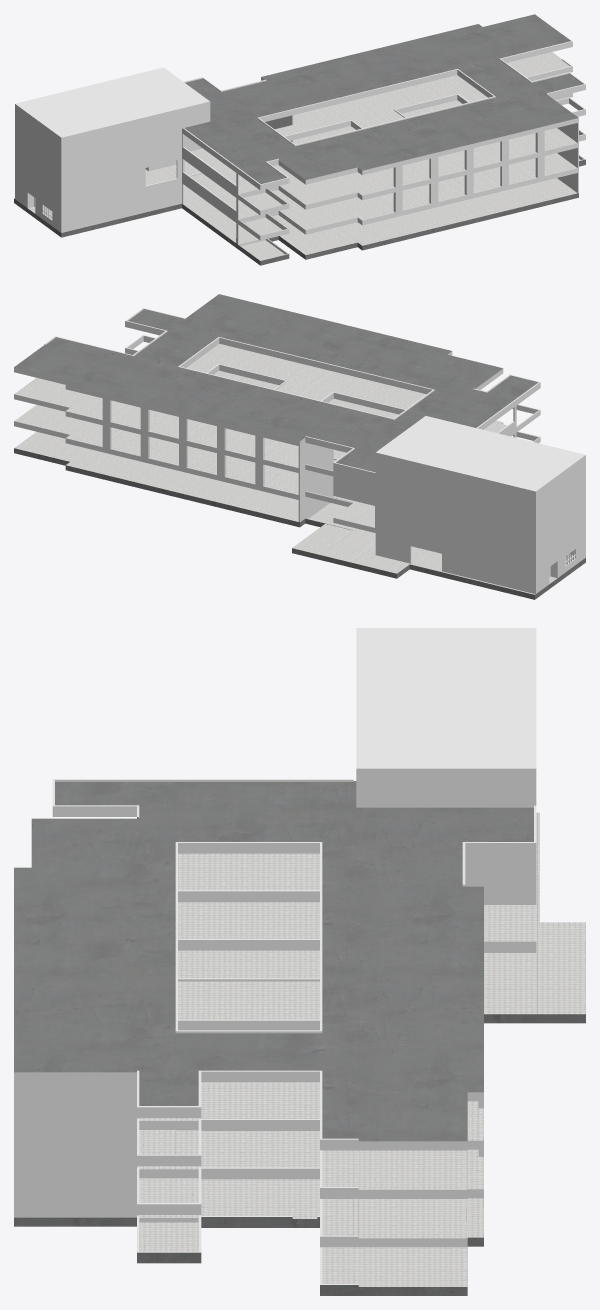
Rendered from Labter-transformed.glb.
3 renders of one model, top to bottom at view 1: azimuth 30°, elevation 25°; view 2: azimuth 150°, elevation 25°; view 3: azimuth 270°, elevation 25°, orthographic. The views are drawn at different scales.
Visible parts, largest first — view 1: big-building; view 2: big-building; view 3: big-building.
Part boxes in pixels (x1,y1,x2,y2): big-building: (14,14,585,265); big-building: (14,294,585,599); big-building: (14,628,585,1295).
Bounding box in the file's own units: 33.99 × 6.46 × 17.32.
Materials: 3 (2 with a texture image).
